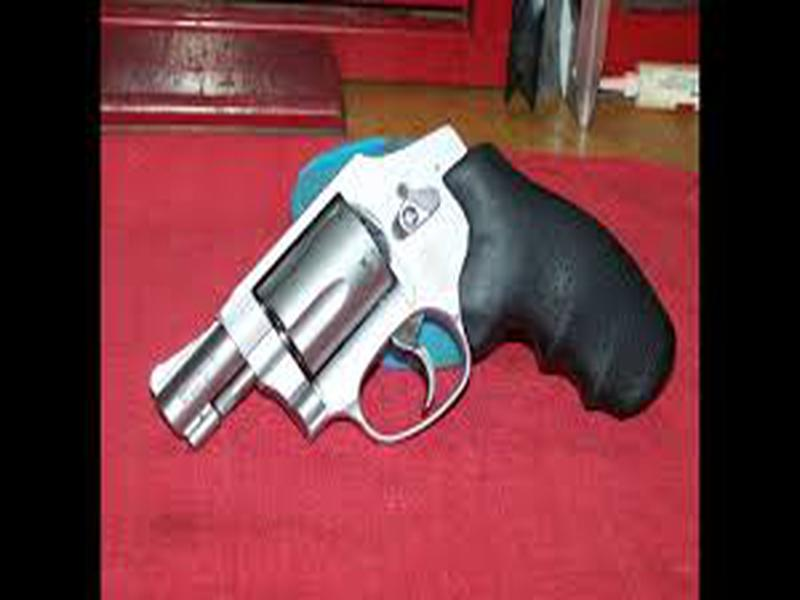gun: (157, 115, 679, 455)
